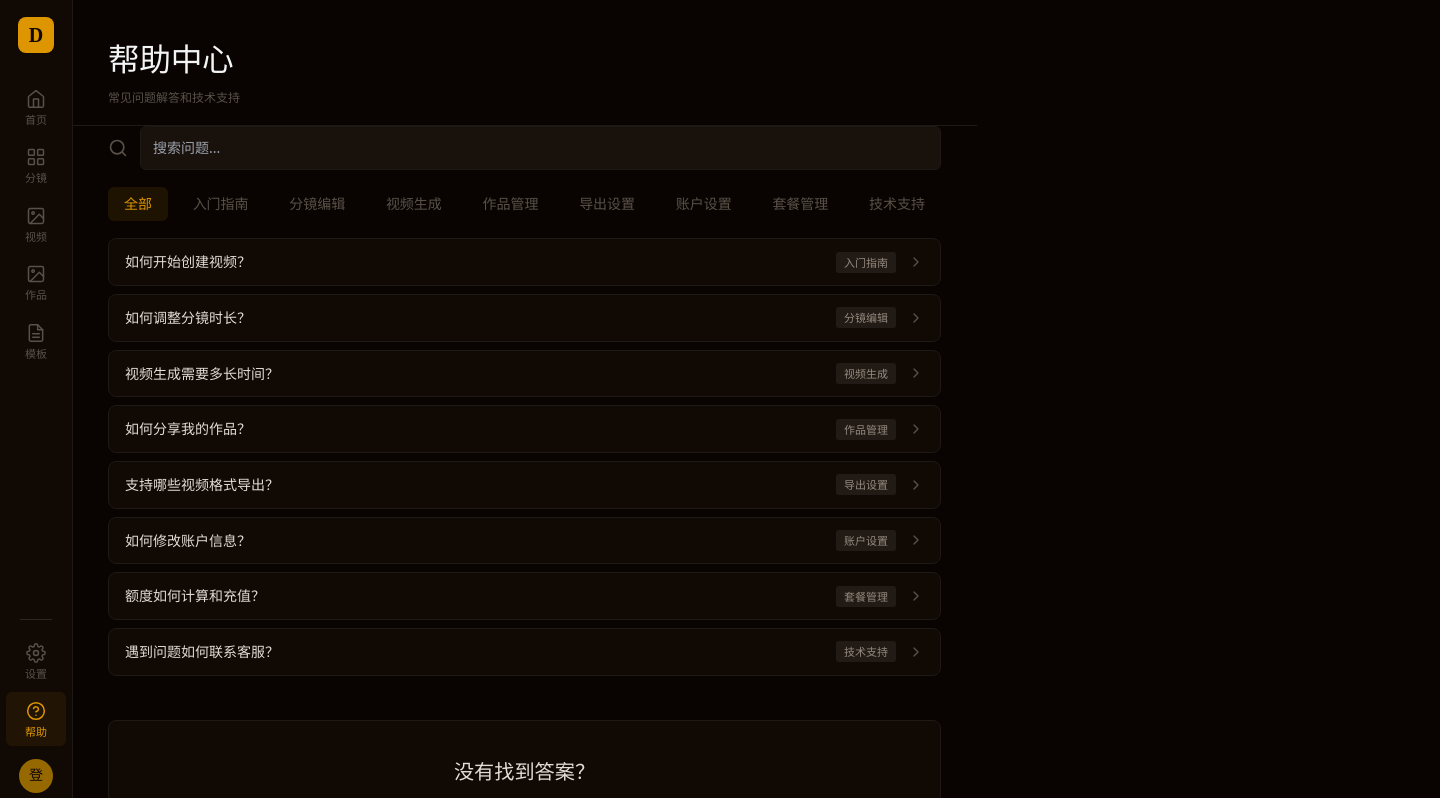
Test: 帮助页面测试 › 分类筛选测试 › 点击全部显示所有FAQ
Step 1. Click the text "入门指南" next to "全部" → click(221, 204), box left=193, top=194, right=249, bottom=213
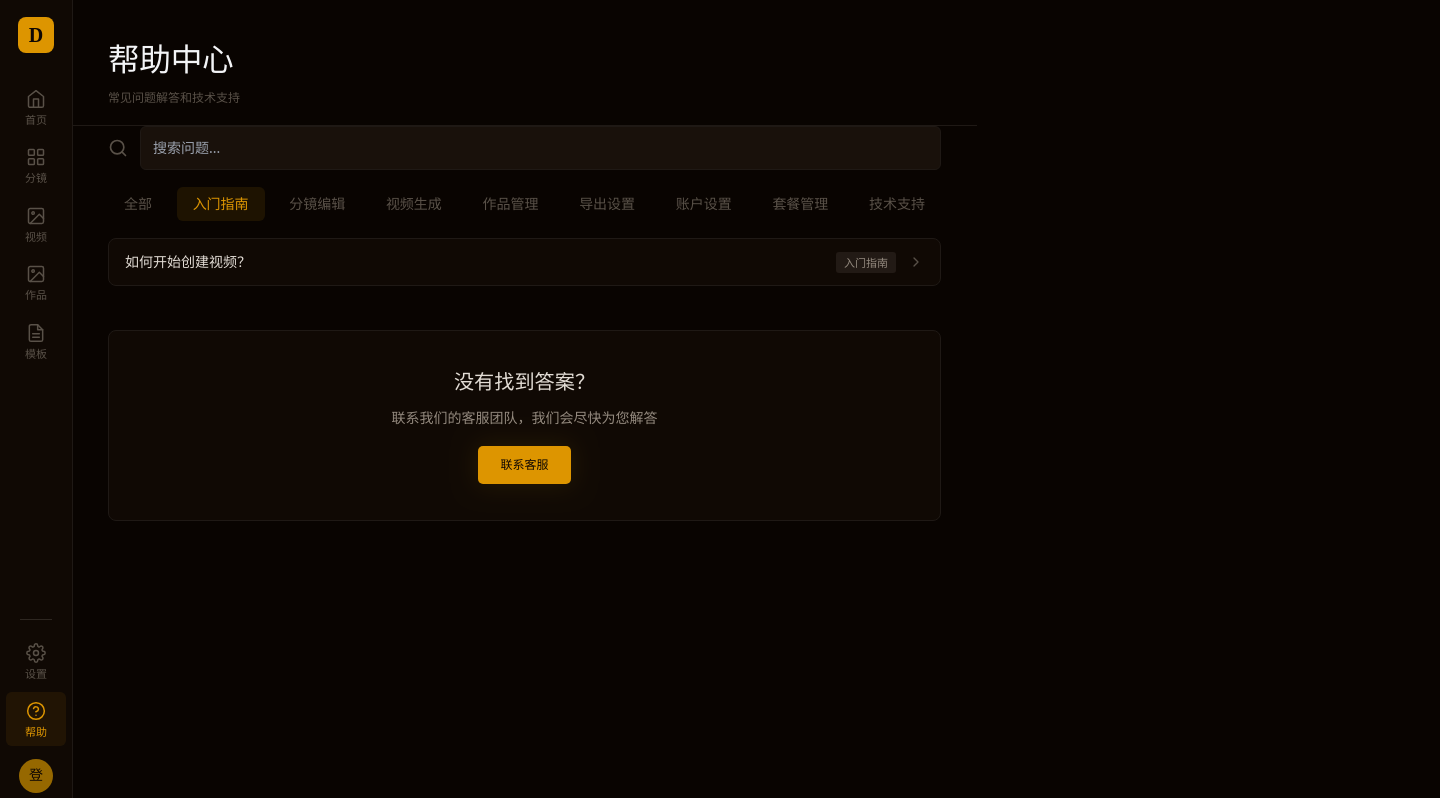
Step 2. Click the text "全部" → click(138, 204), box left=124, top=194, right=152, bottom=213
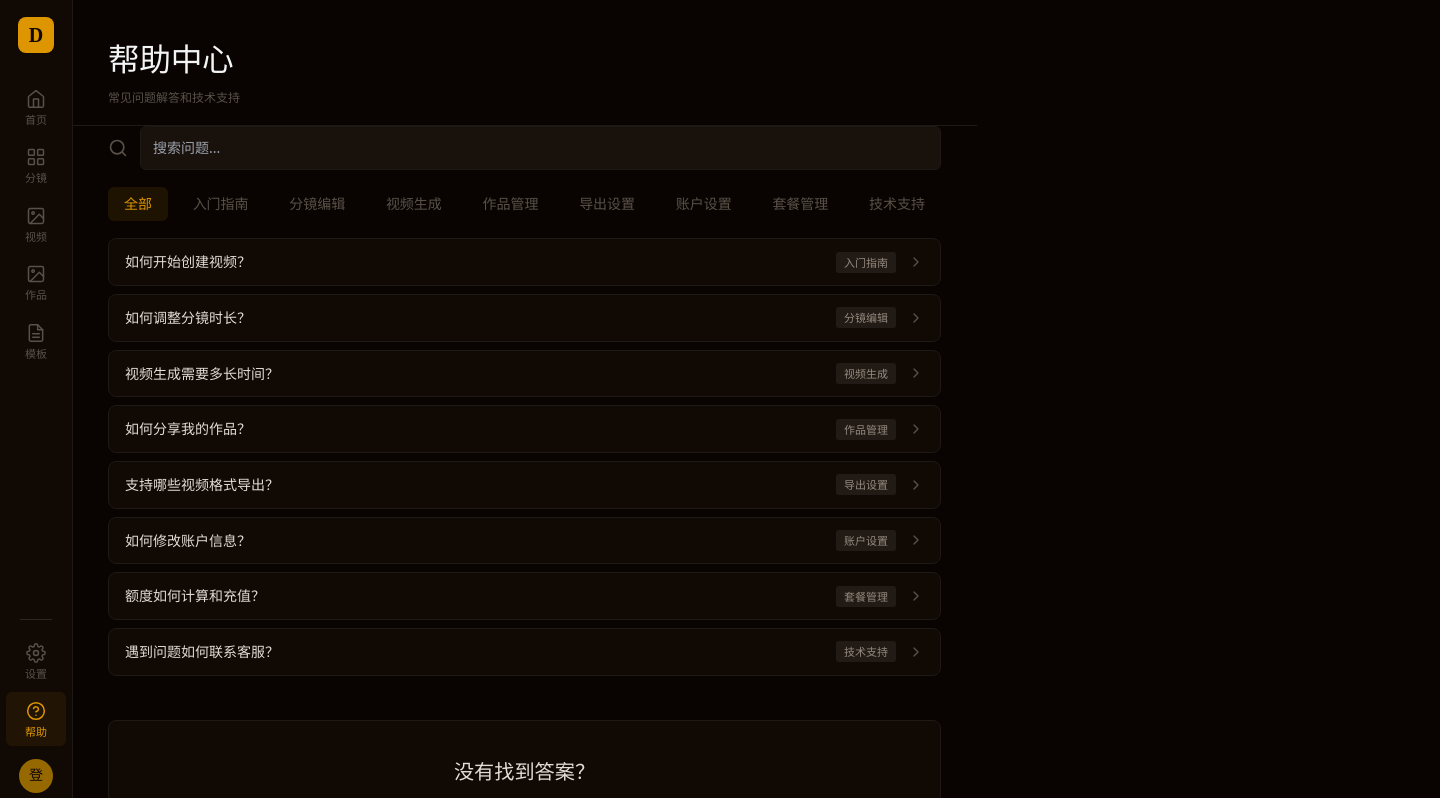
Expected: the text "如何开始创建视频？" is shown, left=125, top=252, right=251, bottom=271
Expected: the text "如何调整分镜时长？" is shown, left=125, top=308, right=251, bottom=327
